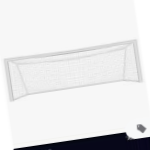goals: (5, 38, 145, 103)
